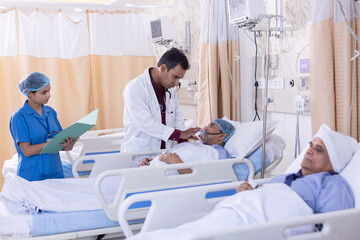Doctor: (152, 47, 190, 130)
Nurse: (14, 74, 75, 158)
patient: (295, 124, 356, 213), (191, 118, 240, 163)
